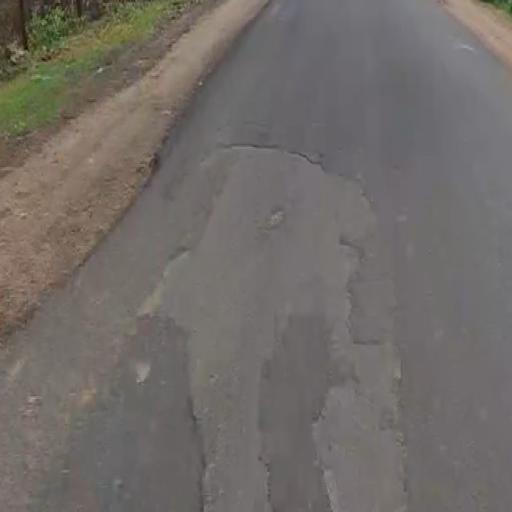ravelling: (106, 118, 442, 503)
